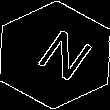N_SW: (20, 23, 90, 87)
